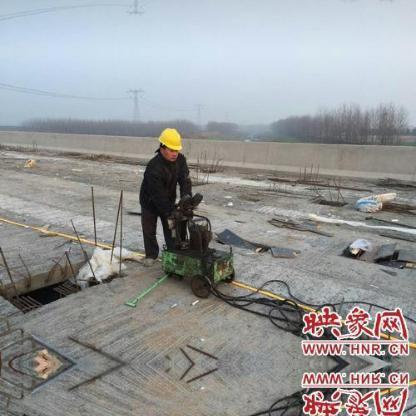helmet: (158, 126, 184, 156)
